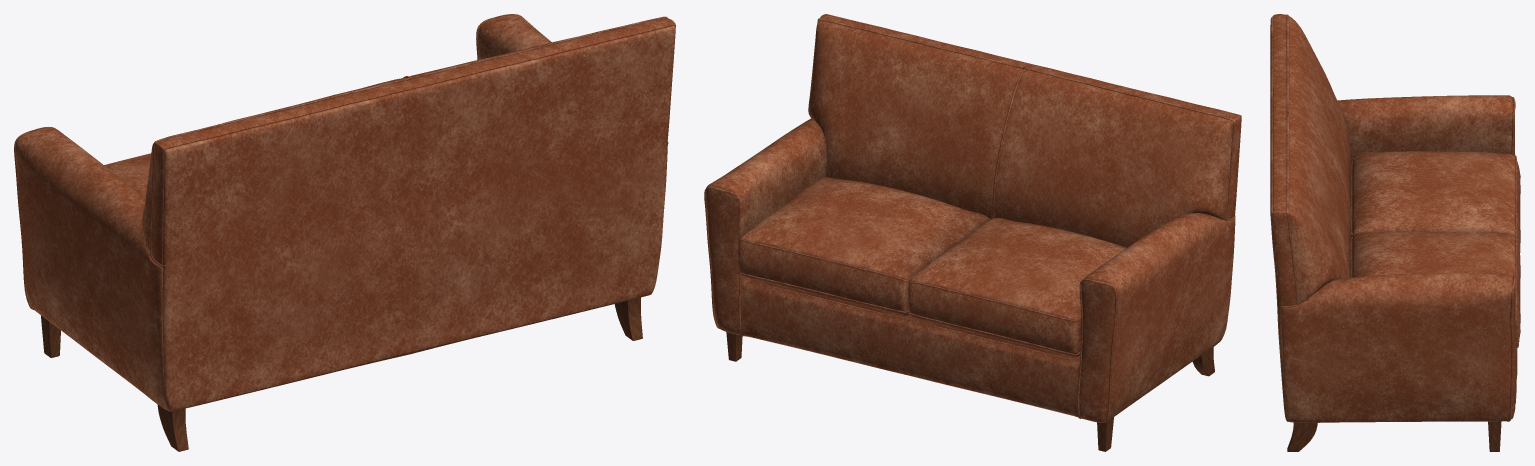
Rendered from abo_B075X43FBS.glb.
The picture shows the model from 3 angles, left to right: view 1: azimuth 30°, elevation 25°; view 2: azimuth 150°, elevation 25°; view 3: azimuth 270°, elevation 25°; orthographic projection. The views are drawn at different scales.
Parts seen in each view (by area): view 1: RootNode; view 2: RootNode; view 3: RootNode.
Boxes of the visible parts, x1,y1,x2,y2 form: RootNode: (14, 14, 675, 451); RootNode: (704, 14, 1241, 451); RootNode: (1270, 14, 1520, 451).
Size of the model in its own units: 1.47 by 0.8711 by 0.7869.
Materials: 1 (1 with a texture image).
